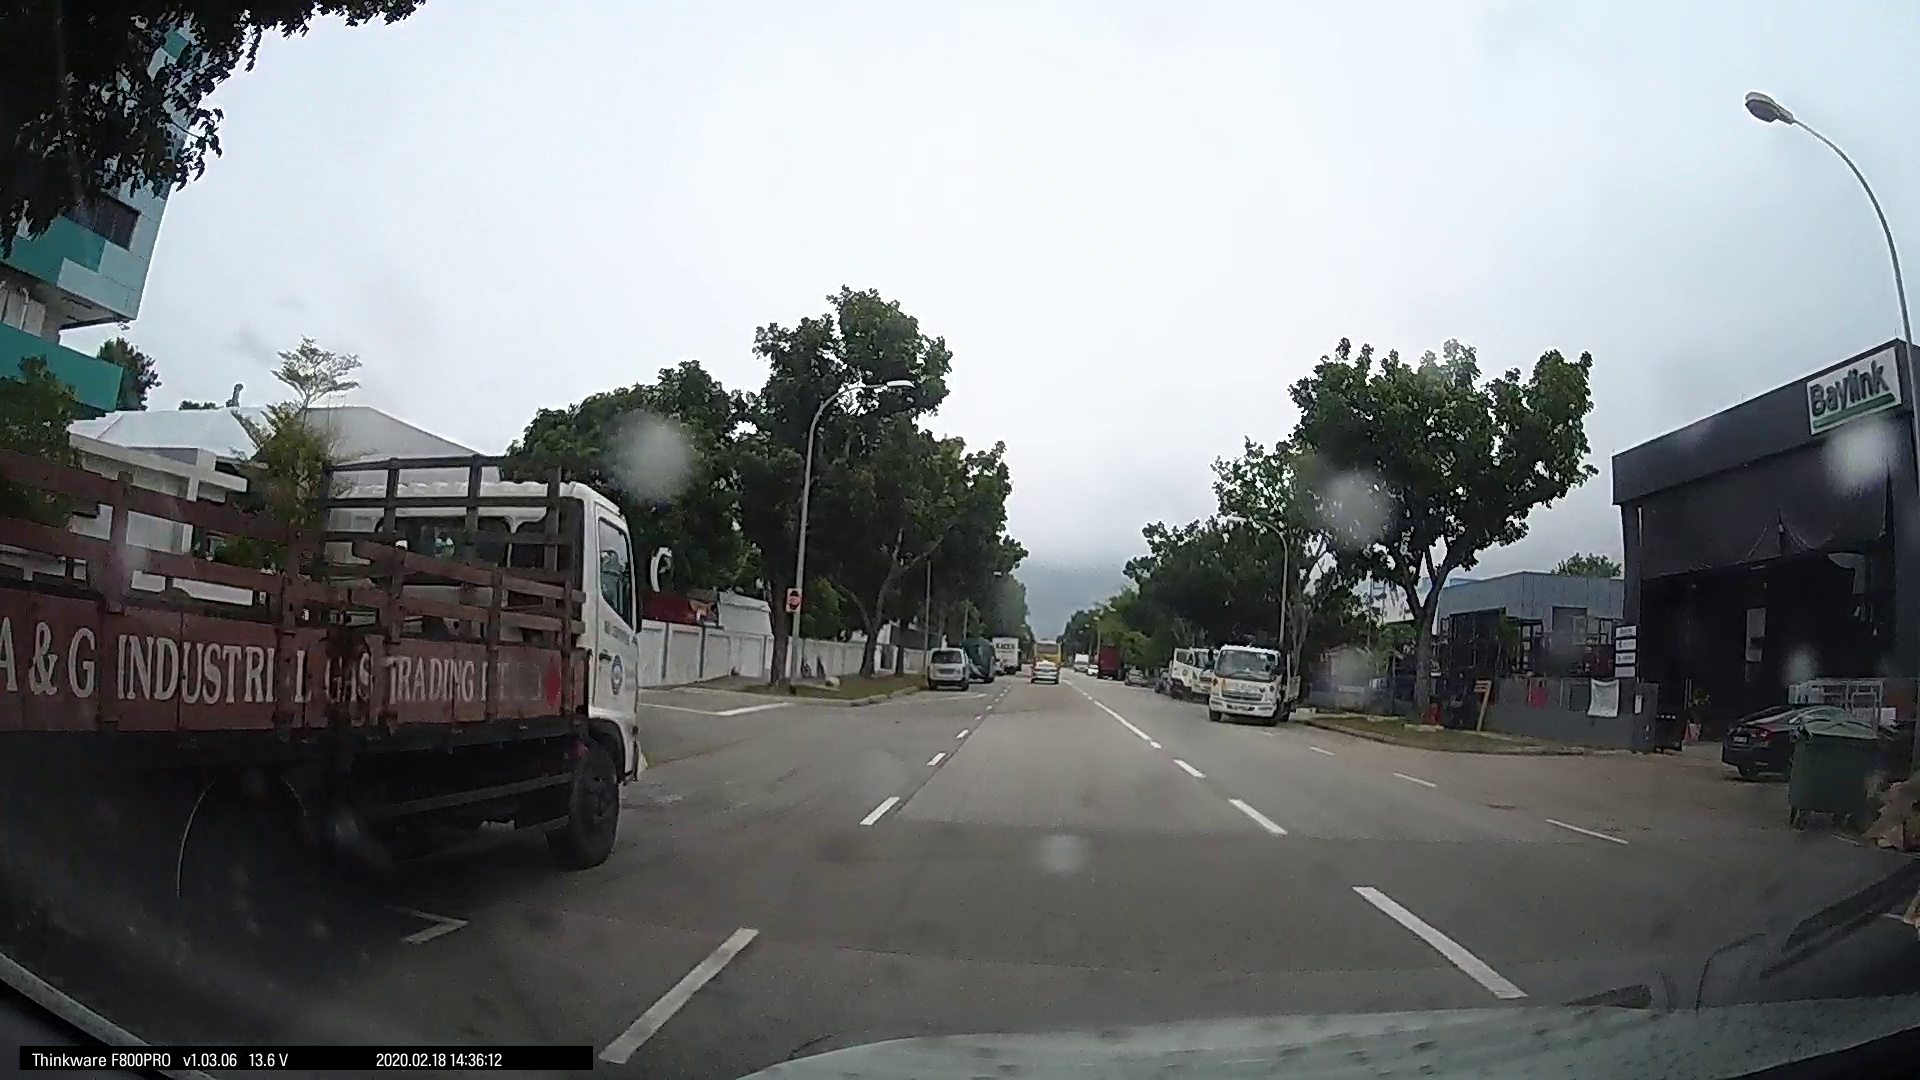Heavy Vehicle: (18, 440, 653, 924)
Light Vehicle: (1718, 694, 1846, 771), (1197, 638, 1287, 724), (920, 640, 976, 691), (1156, 647, 1203, 698), (1023, 645, 1058, 680)
